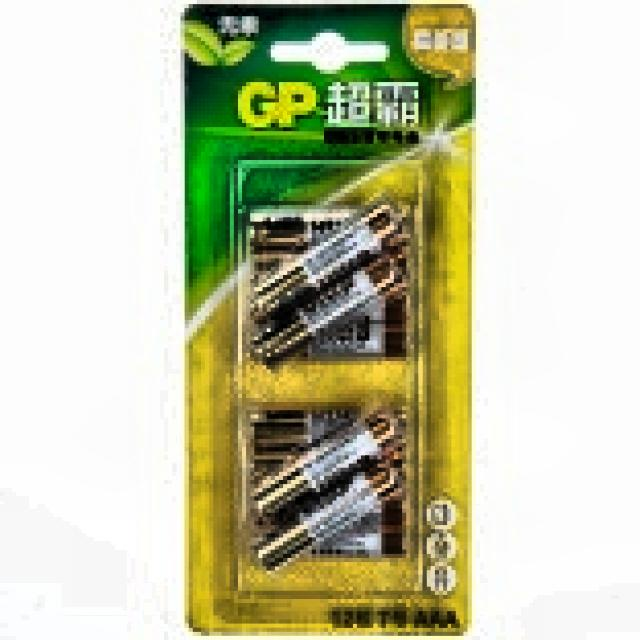Non-Valuable Waste - Batteries: (250, 206, 406, 362), (251, 410, 405, 568)
